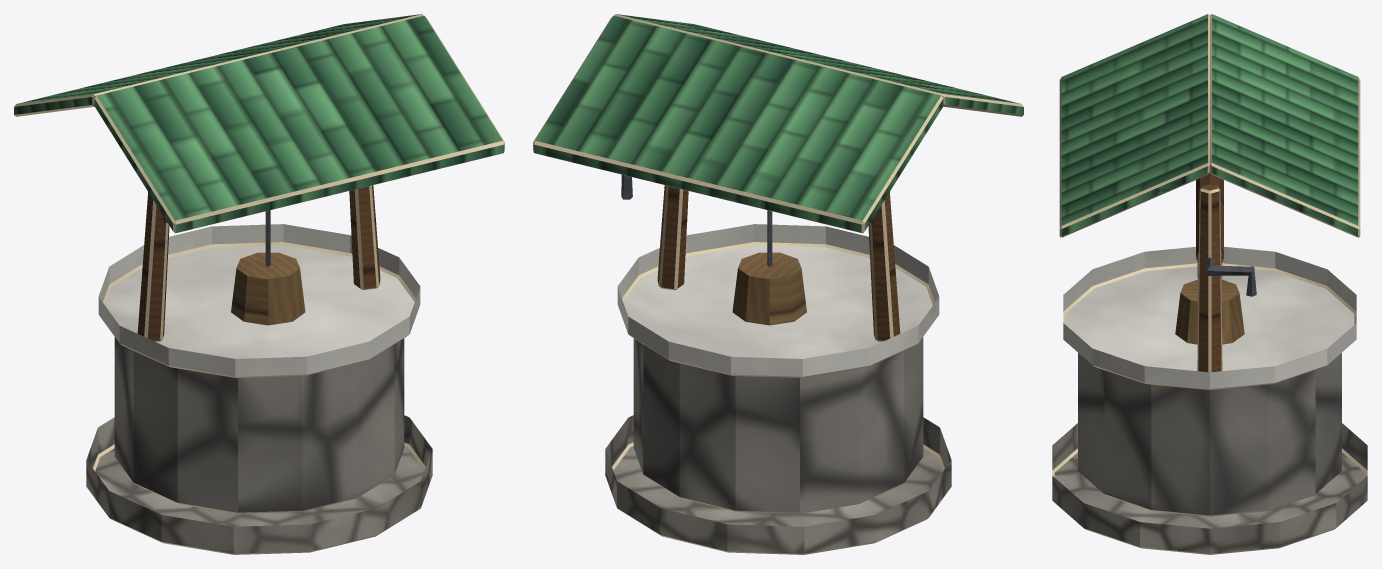
The model's file is Env_Well.fbx.
The picture shows the model from 3 angles, left to right: view 1: azimuth 30°, elevation 25°; view 2: azimuth 150°, elevation 25°; view 3: azimuth 270°, elevation 25°; orthographic projection. The views are drawn at different scales.
Parts seen in each view (by area): view 1: Env_Well; view 2: Env_Well; view 3: Env_Well.
Part boxes in pixels (box(x1,y1,x2,y2)): Env_Well: box(14, 14, 504, 554); Env_Well: box(533, 14, 1023, 554); Env_Well: box(1052, 14, 1367, 554).
Bounding box in the file's own units: 190 × 168 × 234.
